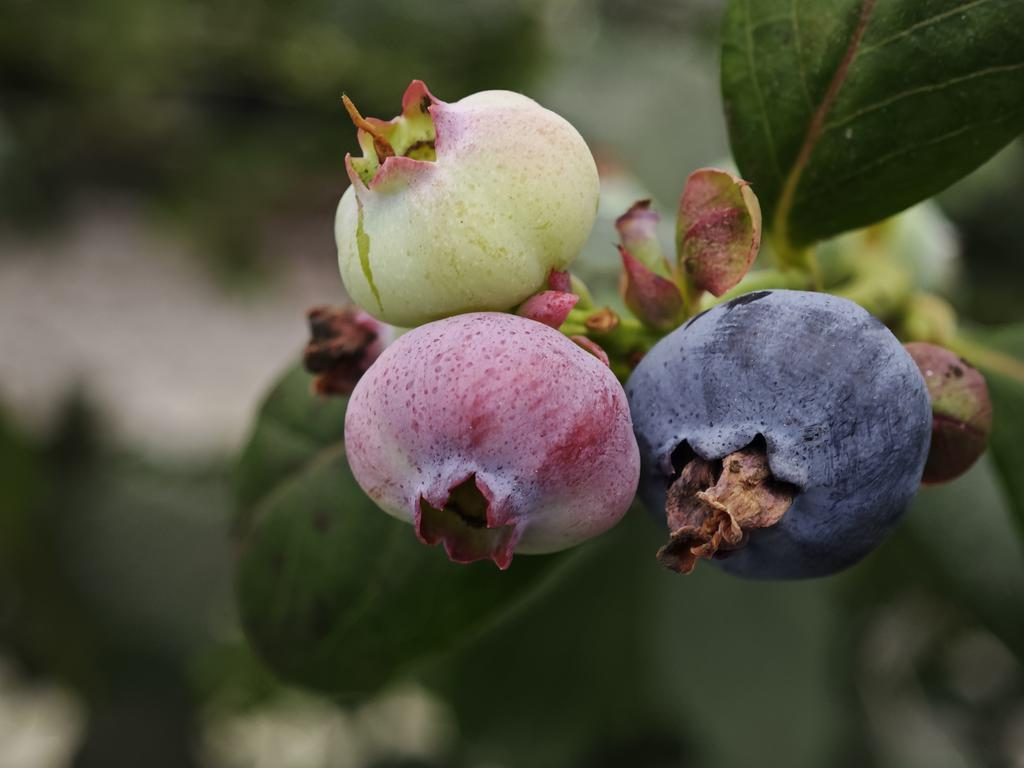RipeBlueBerry: (638, 291, 931, 582)
Semi-RipeBlueBerry: (340, 310, 641, 560)
UnripeBlueBerry: (340, 101, 594, 320)
